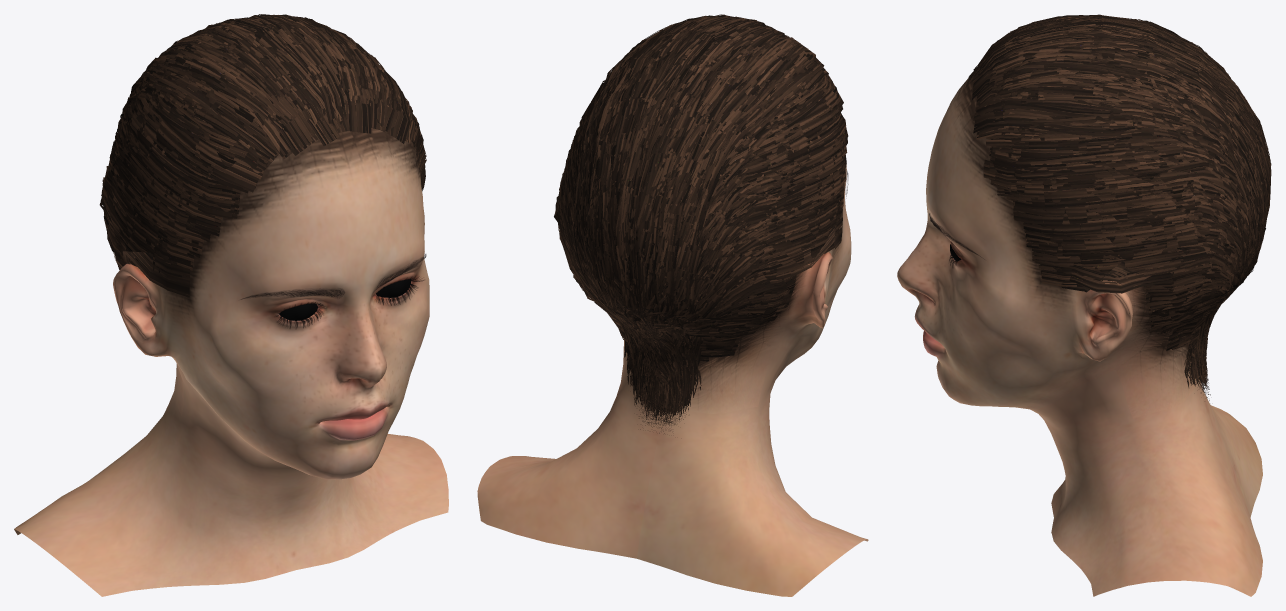
The model's file is AVIRSO_MH_FICTIF.glb.
The picture shows the model from 3 angles, left to right: view 1: azimuth 30°, elevation 25°; view 2: azimuth 150°, elevation 25°; view 3: azimuth 270°, elevation 25°; orthographic projection. The views are drawn at different scales.
Visible parts, largest first — view 1: MH_Peau, MH_cheveux, MH_eyebrow001, MH_eyelashes01; view 2: MH_cheveux, MH_Peau; view 3: MH_Peau, MH_cheveux.
Part boxes in pixels (x1,y1,x2,y2): MH_Peau: [14, 127, 448, 596]; MH_cheveux: [99, 14, 426, 297]; MH_eyebrow001: [241, 254, 426, 299]; MH_eyelashes01: [275, 276, 423, 328]; MH_cheveux: [554, 14, 848, 433]; MH_Peau: [477, 165, 868, 596]; MH_Peau: [897, 69, 1262, 596]; MH_cheveux: [968, 14, 1271, 400].
Bounding box in the file's own units: 0.2321 × 0.2944 × 0.2032.
Materials: 6 (5 with a texture image).
